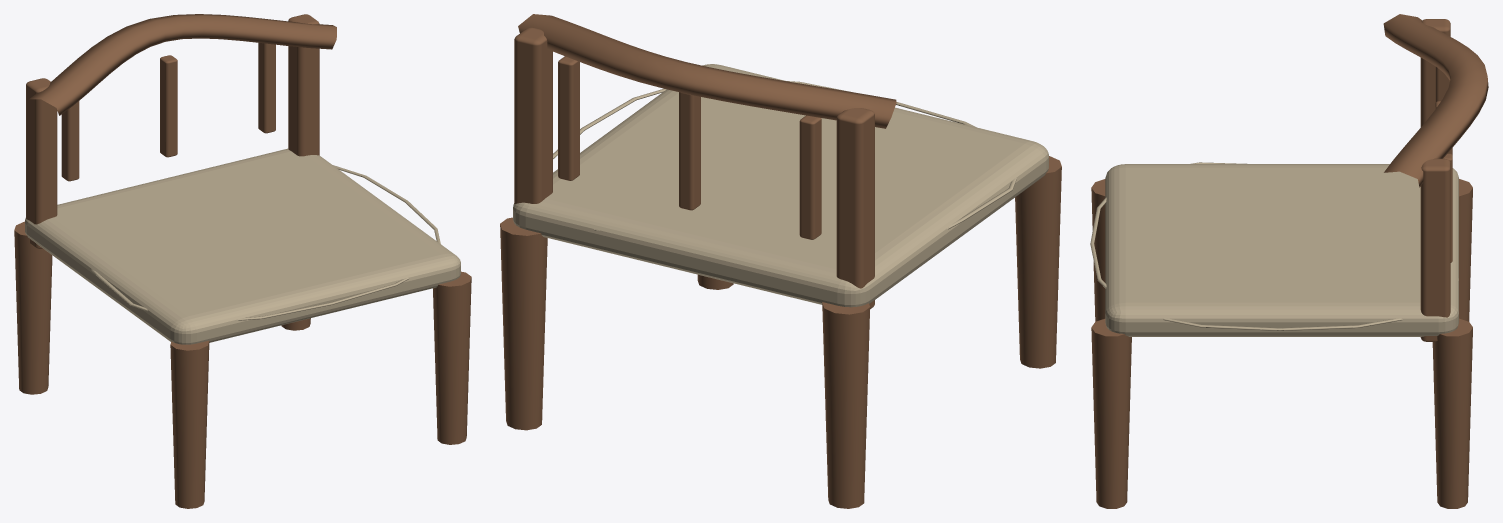
Rendered from classroom-chair.glb.
3 renders of one model, left to right at view 1: azimuth 30°, elevation 25°; view 2: azimuth 150°, elevation 25°; view 3: azimuth 270°, elevation 25°, orthographic. The views are drawn at different scales.
Parts seen in each view (by area): view 1: tailored-cushion, part; view 2: tailored-cushion, part; view 3: tailored-cushion, part.
Boxes of the visible parts, box(x1,y1,x2,y2) form: tailored-cushion: box(25, 148, 460, 344); part: box(14, 14, 471, 508); tailored-cushion: box(513, 64, 1048, 307); part: box(500, 14, 1061, 508); tailored-cushion: box(1090, 162, 1458, 336); part: box(1091, 14, 1488, 508).
Size of the model in its own units: 1 by 1 by 1.
